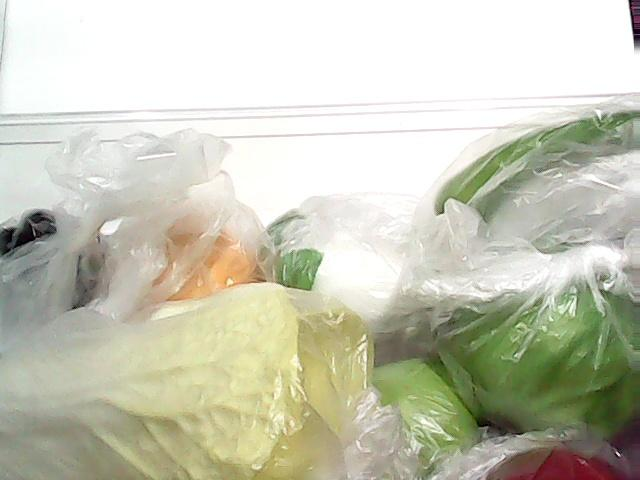apple: (367, 359, 481, 453), (482, 447, 635, 480)
cabbage: (430, 253, 640, 434)
grape: (0, 185, 94, 293)
lemon: (123, 196, 273, 316)
napa cabbage: (0, 276, 366, 480)
pepper: (412, 83, 640, 242)
radish: (262, 194, 430, 338)
